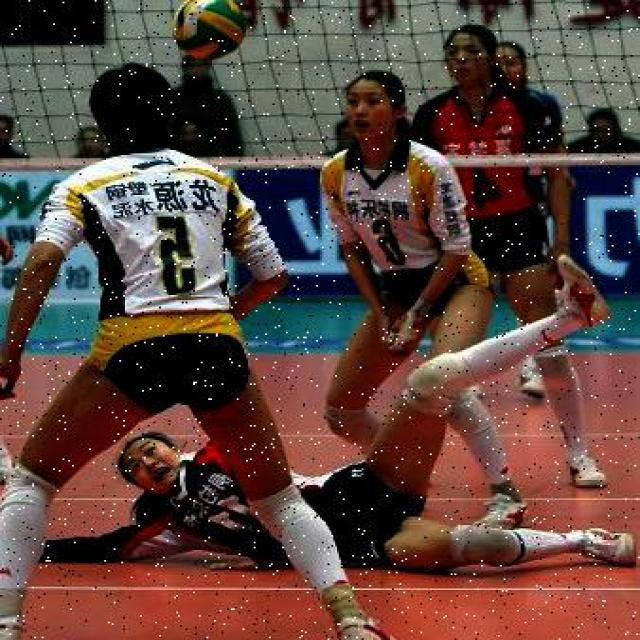fall: (118, 428, 606, 570)
